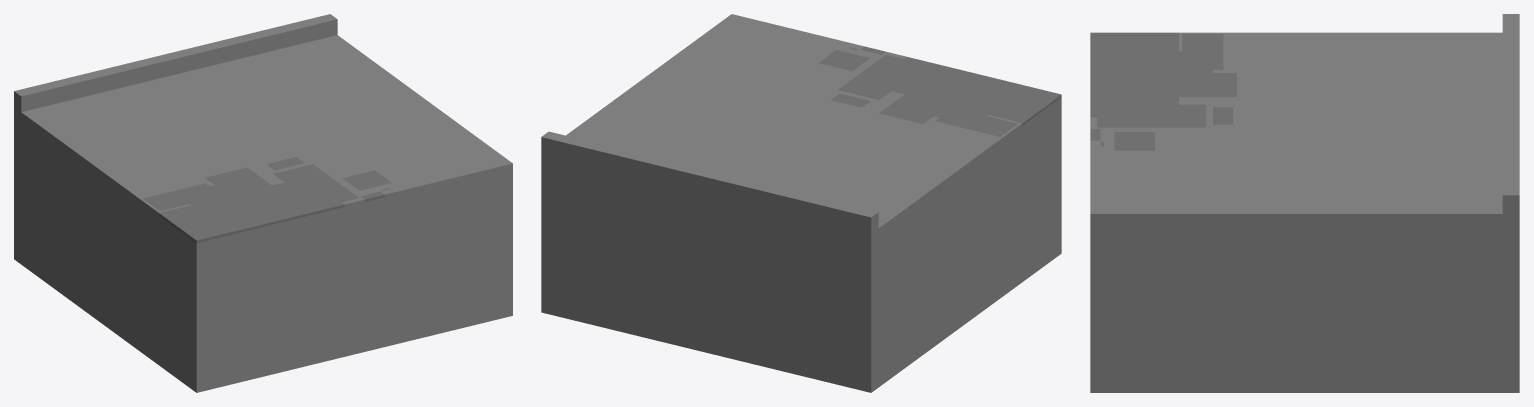
File: 4x2 roof (1)-3.obj
3 renders of one model, left to right at view 1: azimuth 30°, elevation 25°; view 2: azimuth 150°, elevation 25°; view 3: azimuth 270°, elevation 25°, orthographic. The views are drawn at different scales.
Parts seen in each view (by area): view 1: 4x2 roof (1)-3; view 2: 4x2 roof (1)-3; view 3: 4x2 roof (1)-3.
Part boxes in pixels (box(x1,y1,x2,y2)): 4x2 roof (1)-3: box(14, 14, 512, 392); 4x2 roof (1)-3: box(541, 14, 1061, 392); 4x2 roof (1)-3: box(1090, 14, 1519, 392).
Bounding box in the file's own units: 126 × 64 × 126.
1 material, 1 textured.
